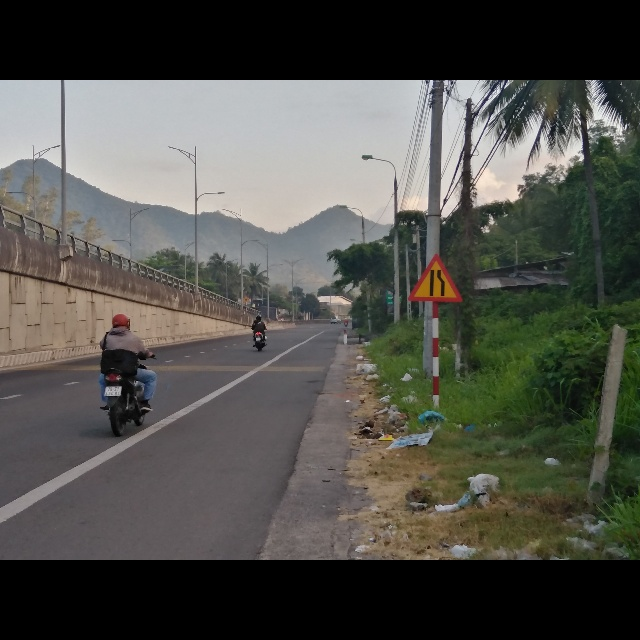Đường bị hẹp bên phải: (408, 253, 464, 301)
